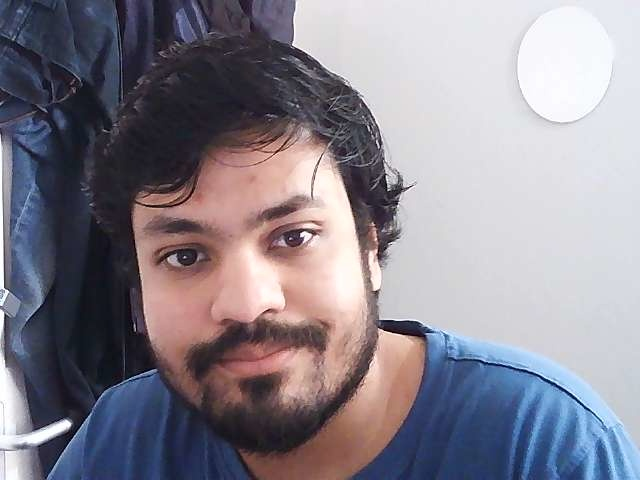Face: (78, 22, 429, 450)
